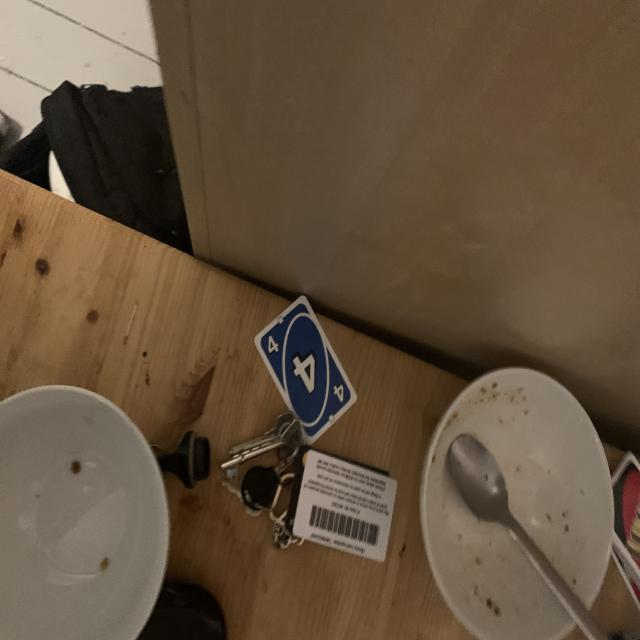lblue-4: (262, 328, 284, 360)
